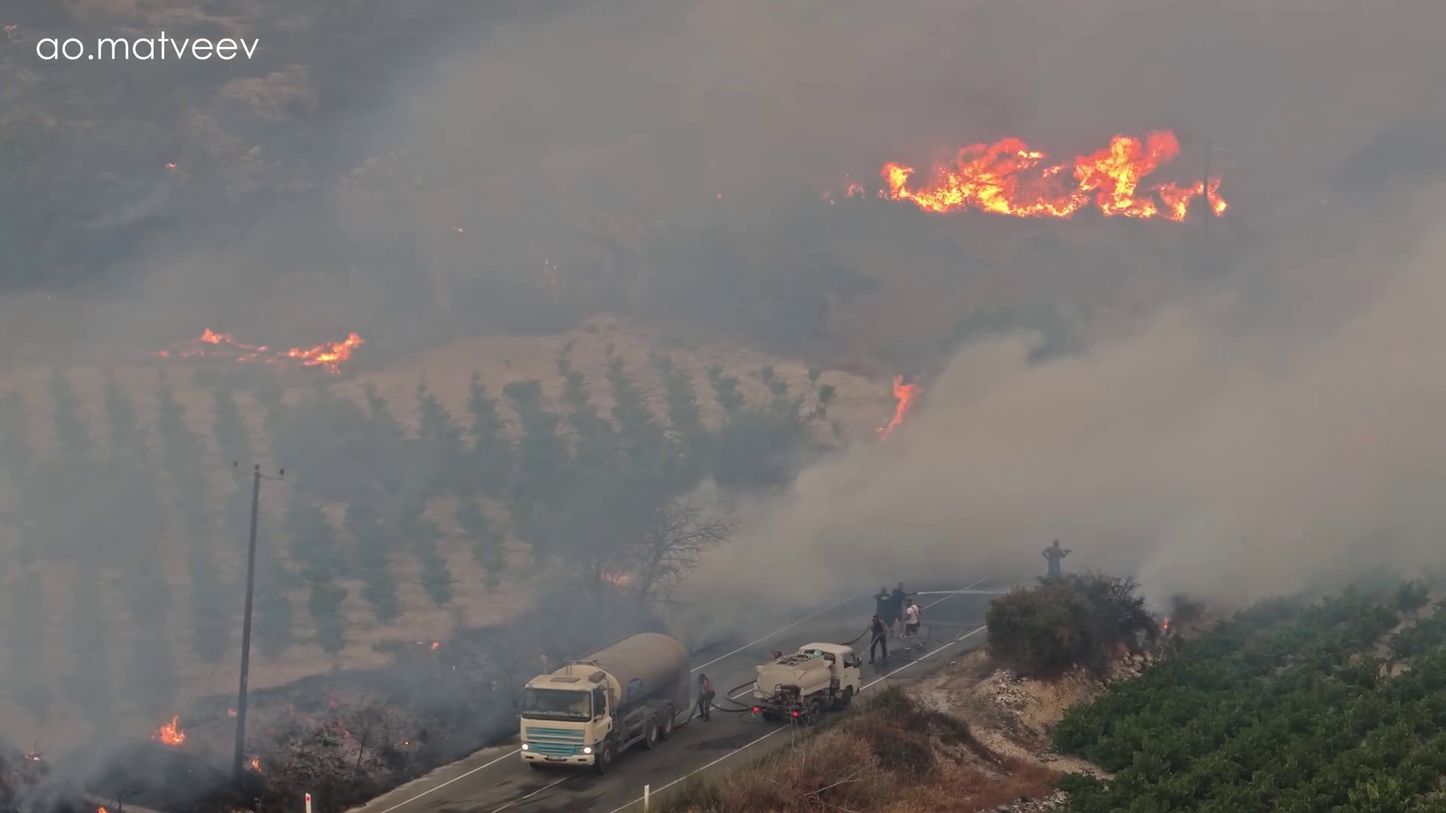forest_fire: (877, 130, 1228, 221), (155, 327, 363, 373), (878, 376, 921, 439), (158, 716, 185, 744), (844, 184, 865, 196)
